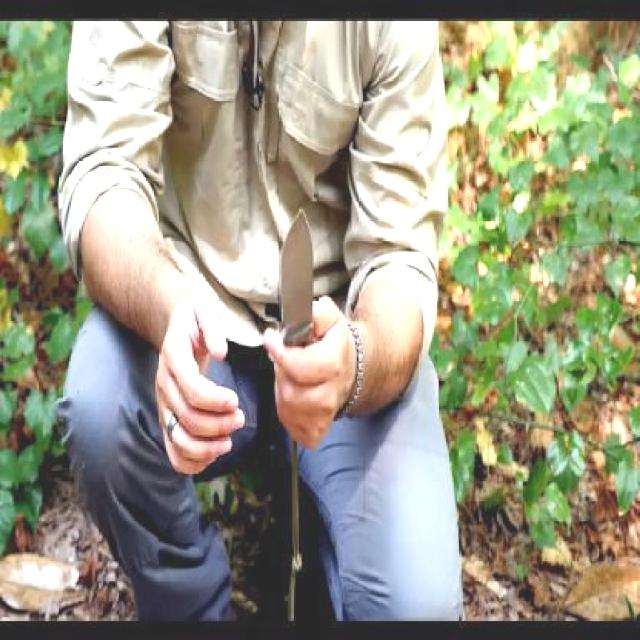knife: (262, 200, 331, 400)
